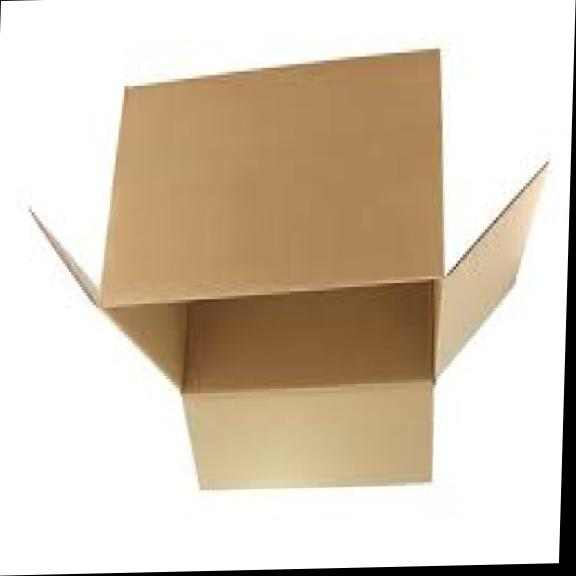Kertas: (34, 51, 544, 489)
